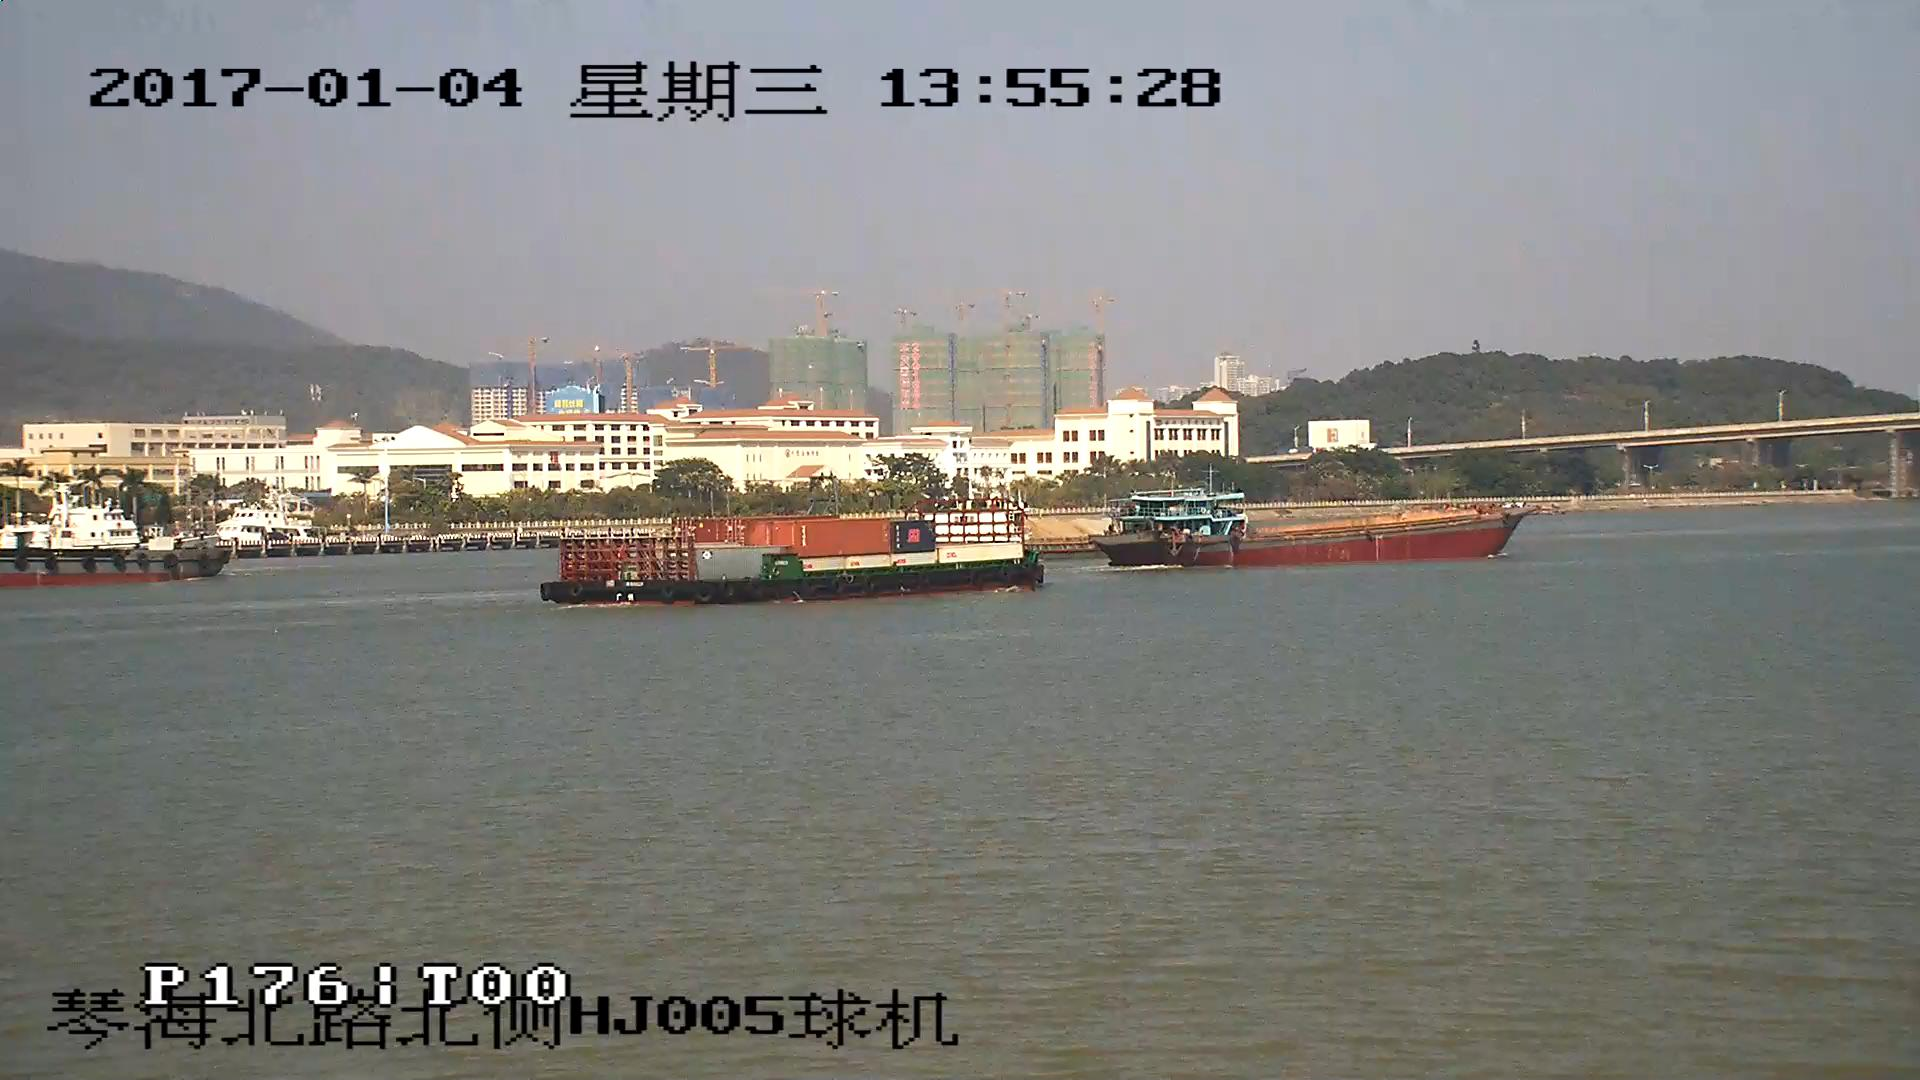bulk cargo carrier: (1090, 489, 1516, 568)
container ship: (544, 498, 1045, 601)
general cargo ship: (1, 493, 235, 584)
